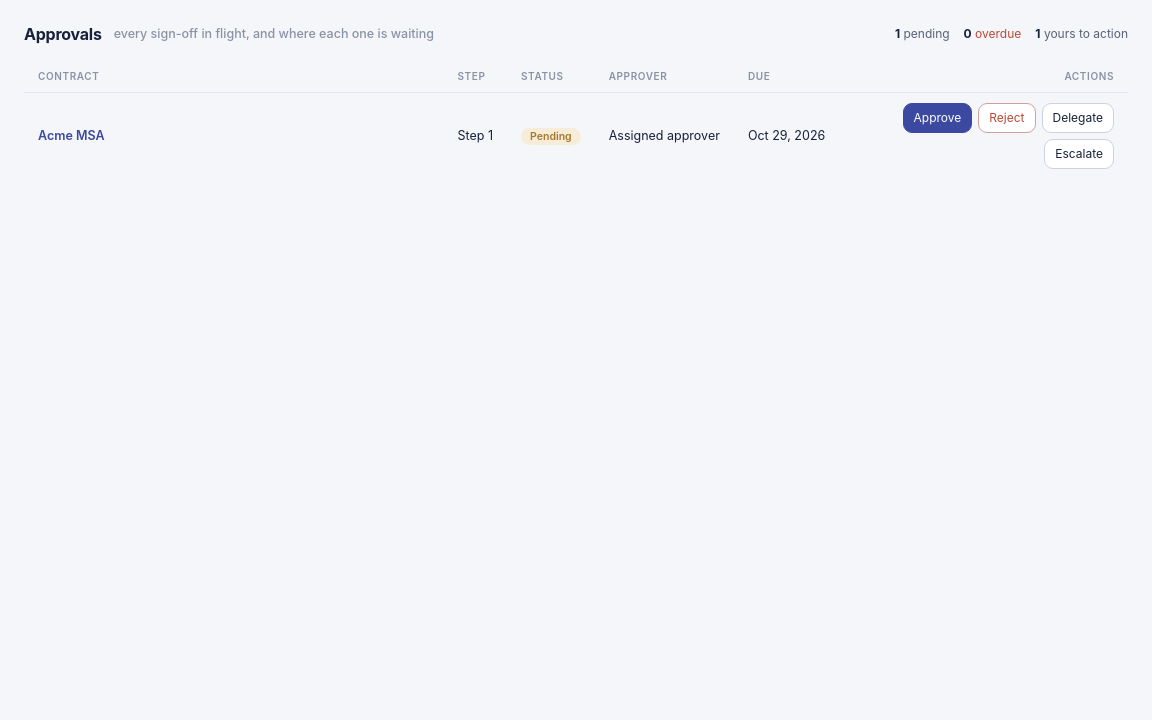
Test: the boxes and messages say which contract › asks for senior approvers when escalating and says so when there are none
Click the button "Escalate" at (1079, 154), box [1044,139,1114,169]
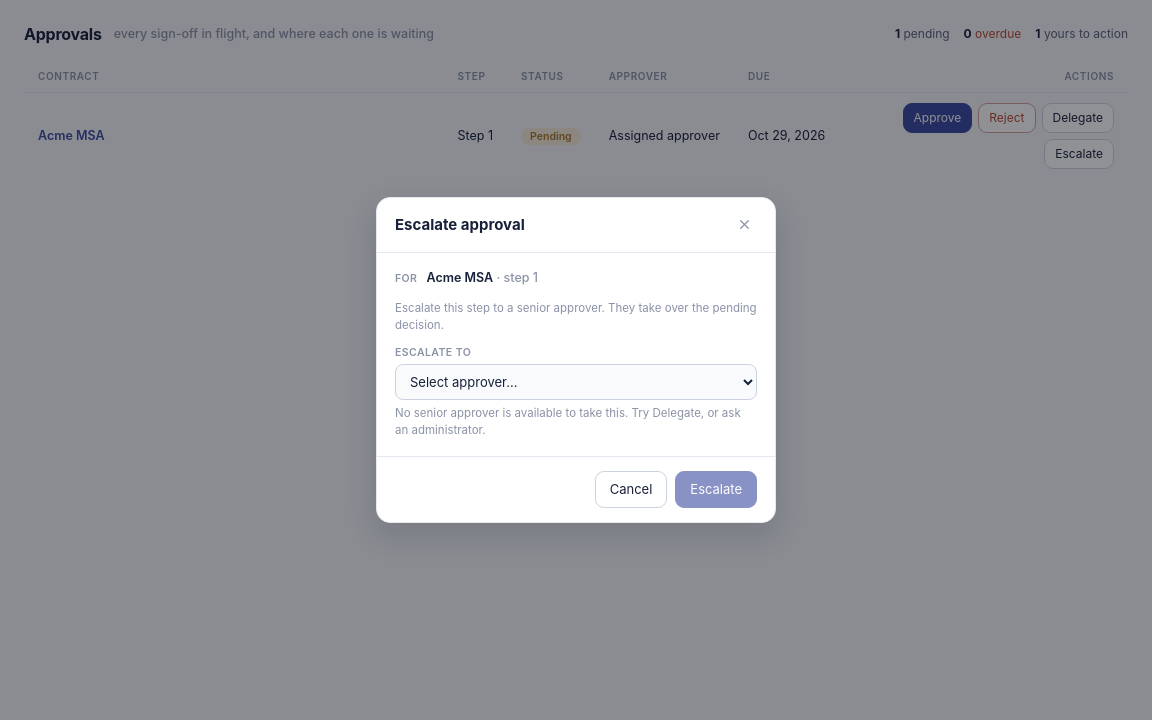
Now the text "No senior approver is available" is shown, box [395,406,741,437]
Now the button "Escalate" is disabled, box [675,471,757,508]
